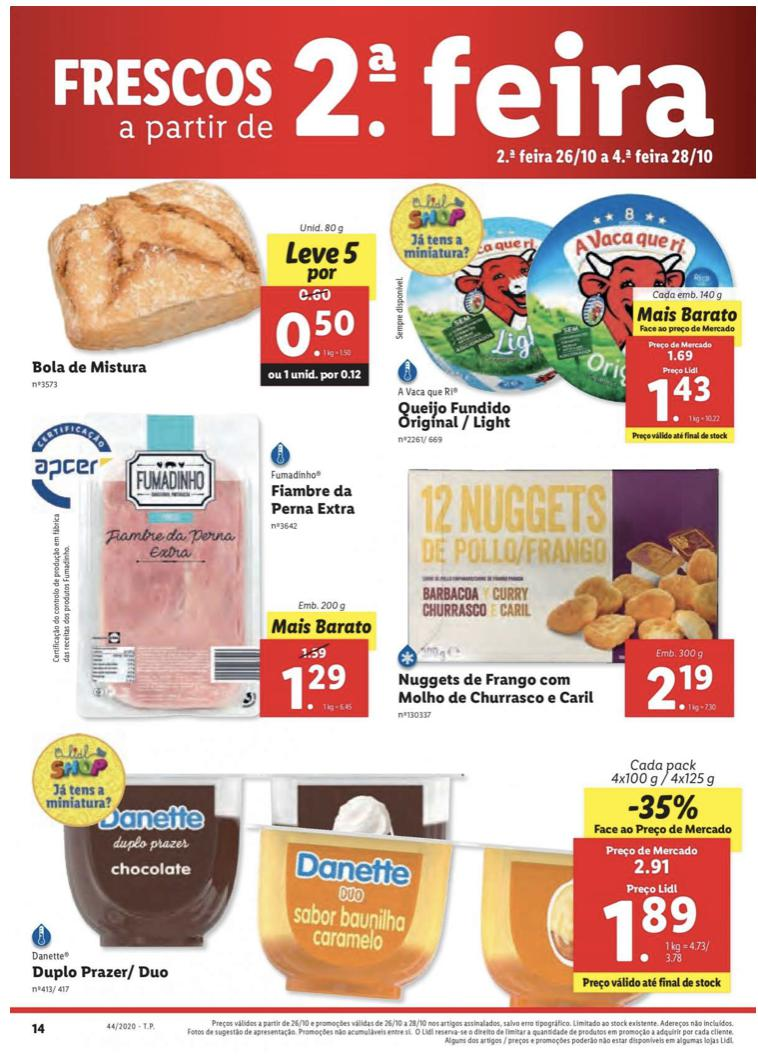name: (396, 671, 598, 708), (397, 399, 516, 433), (271, 483, 359, 520), (26, 354, 151, 378), (29, 962, 171, 983)
price: (604, 892, 698, 965), (275, 303, 356, 361), (647, 661, 719, 716), (646, 374, 716, 425), (280, 662, 351, 712)
product: (9, 733, 743, 1013), (12, 408, 389, 725), (376, 449, 751, 725), (376, 194, 747, 449), (13, 179, 381, 405)
promotion: (622, 792, 702, 823)
